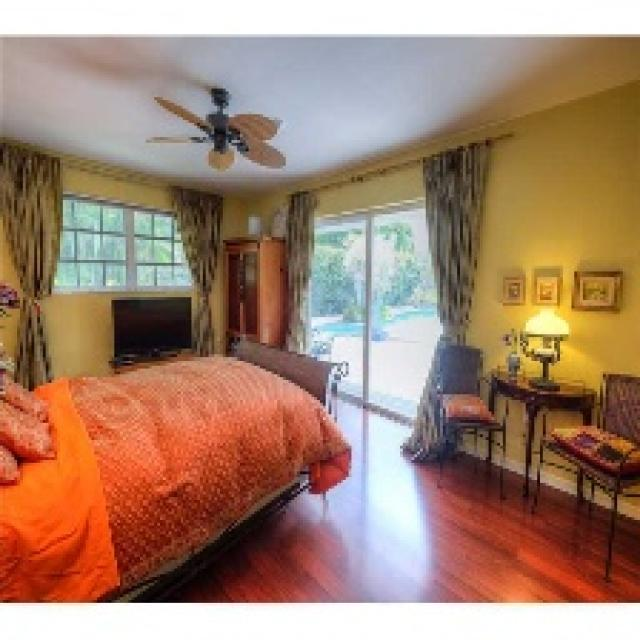Bed: (0, 334, 351, 599)
